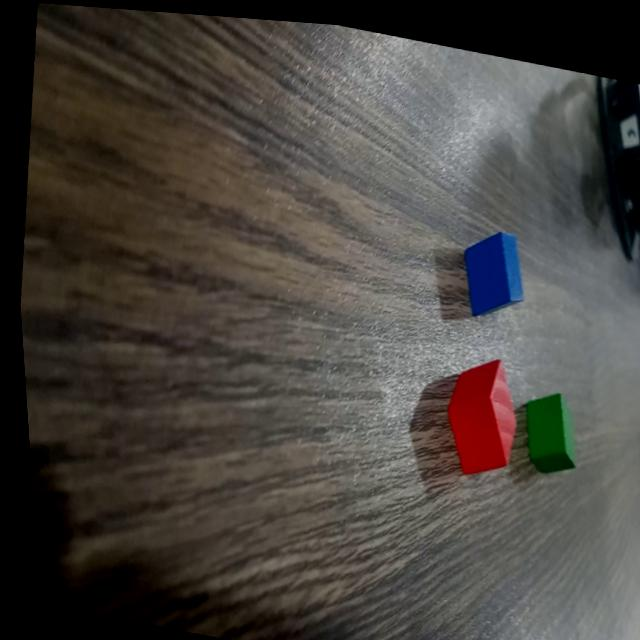cube: (428, 337, 525, 479), (450, 210, 530, 320), (509, 374, 580, 473)
